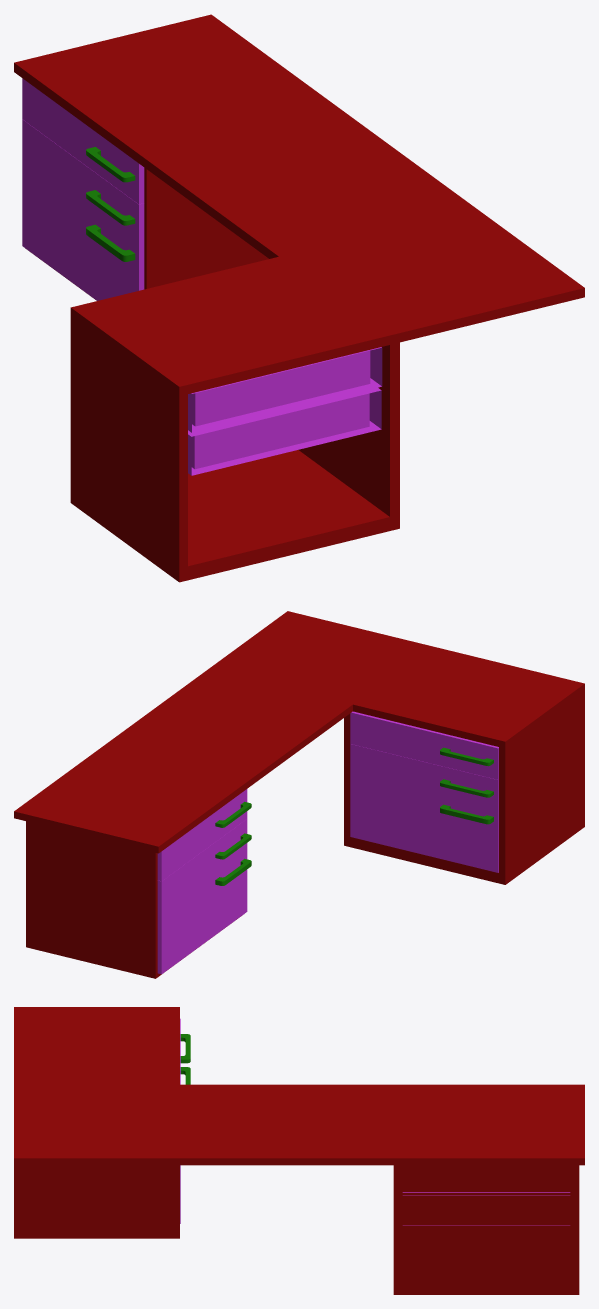
The model's file is inch.fbx.
The picture shows the model from 3 angles, top to bottom: view 1: azimuth 30°, elevation 25°; view 2: azimuth 150°, elevation 25°; view 3: azimuth 270°, elevation 25°; orthographic projection. The views are drawn at different scales.
Visible parts, largest first — view 1: Bureau, Tir_01, Tir_005, Tir_003, Tir_02, Tir_00; view 2: Bureau, Tir_004, Tir_01, Tir_003, Tir_005, Tir_02, Tir_00; view 3: Bureau.
Boxes of the visible parts, x1,y1,x2,y2 form: Bureau: [14, 14, 584, 582]; Tir_01: [22, 162, 144, 300]; Tir_005: [188, 387, 381, 475]; Tir_003: [188, 347, 382, 432]; Tir_02: [22, 119, 144, 247]; Tir_00: [22, 78, 144, 204]; Bureau: [14, 611, 584, 978]; Tir_004: [350, 775, 498, 872]; Tir_01: [157, 850, 251, 974]; Tir_003: [350, 711, 498, 779]; Tir_005: [350, 744, 498, 811]; Tir_02: [157, 819, 251, 912]; Tir_00: [157, 789, 251, 881]; Bureau: [14, 1007, 584, 1294].
Size of the model in its own units: 116 by 53.65 by 186.
